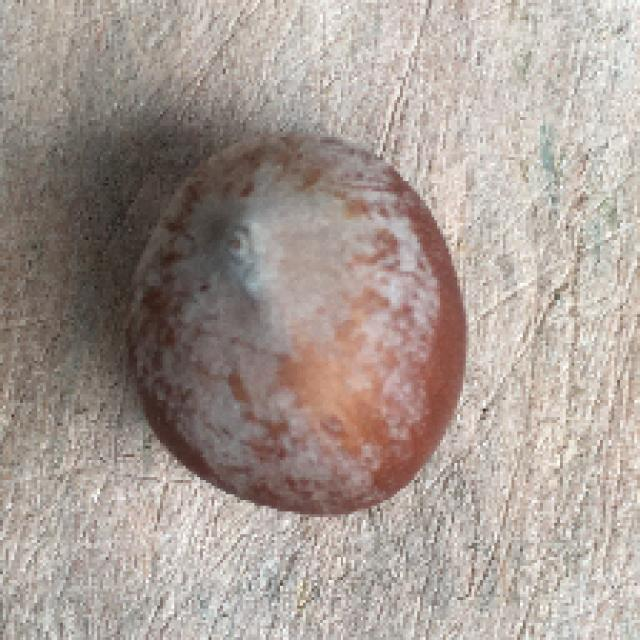qualityHazelnut: (110, 118, 473, 528)
